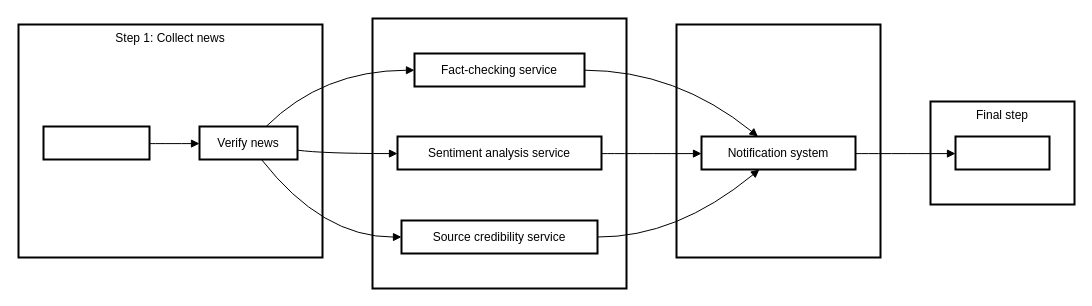
The diagram is 1092 pixels wide and 306 high, and some of its shapes have lost their labels. The shapes that lost their labels are listed below. From the top down, each one's box as (x1, y1, x2, y2) in pixels, then its label:
(42, 125, 150, 160): Collect news
(371, 17, 627, 289): Step 2: Verify news
(675, 23, 881, 258): Step 3: Notify user
(954, 135, 1050, 170): Notify user
